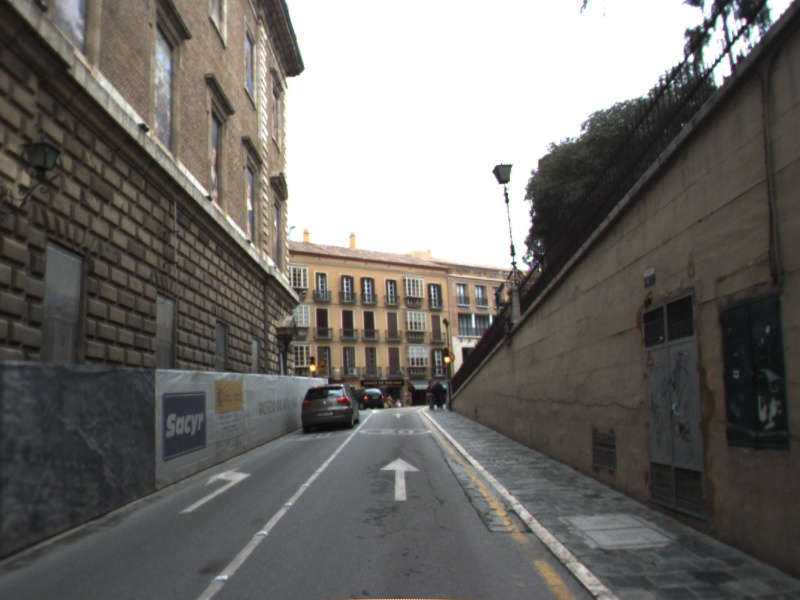LEFT: (177, 465, 253, 515)
STRAIGHT: (378, 456, 423, 502), (390, 411, 407, 420)
